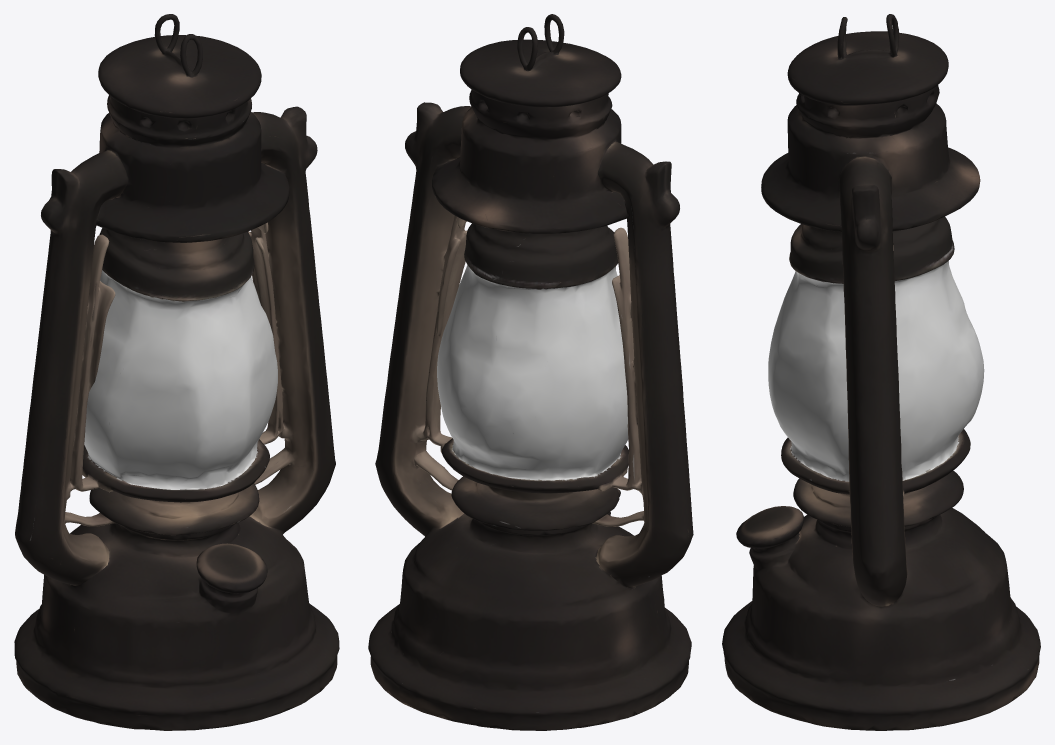
File: attic-lantern.glb
3 views of the same model, side by side, from view 1: azimuth 30°, elevation 25°; view 2: azimuth 150°, elevation 25°; view 3: azimuth 270°, elevation 25° (orthographic).
Bounding box in the file's own units: 0.4516 × 0.8923 × 0.3953.
Materials: 1 (1 with a texture image).
